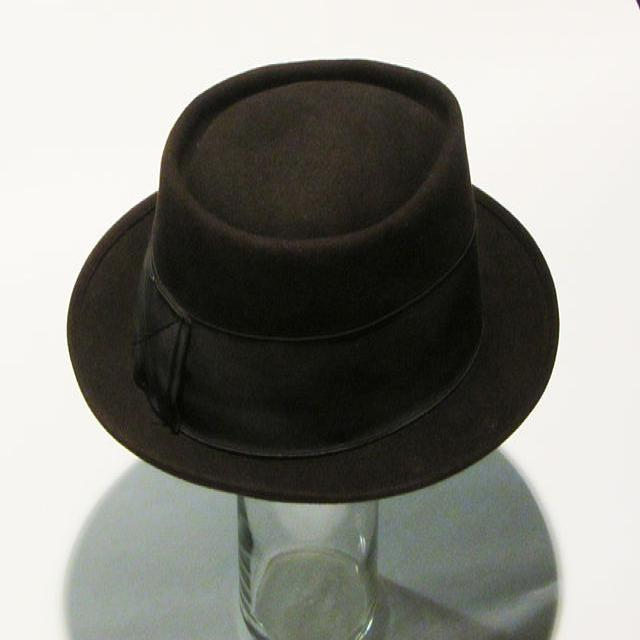hat: (59, 52, 566, 510)
